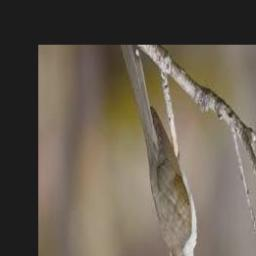Cuckoo: (122, 45, 203, 256)
